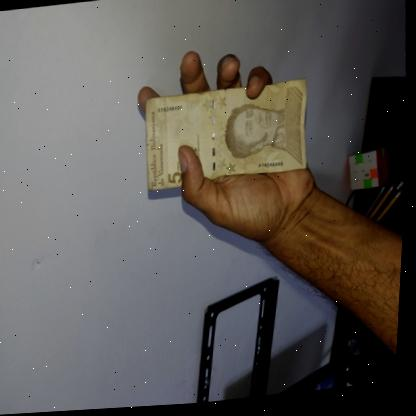five-front-vef: (141, 81, 312, 195)
